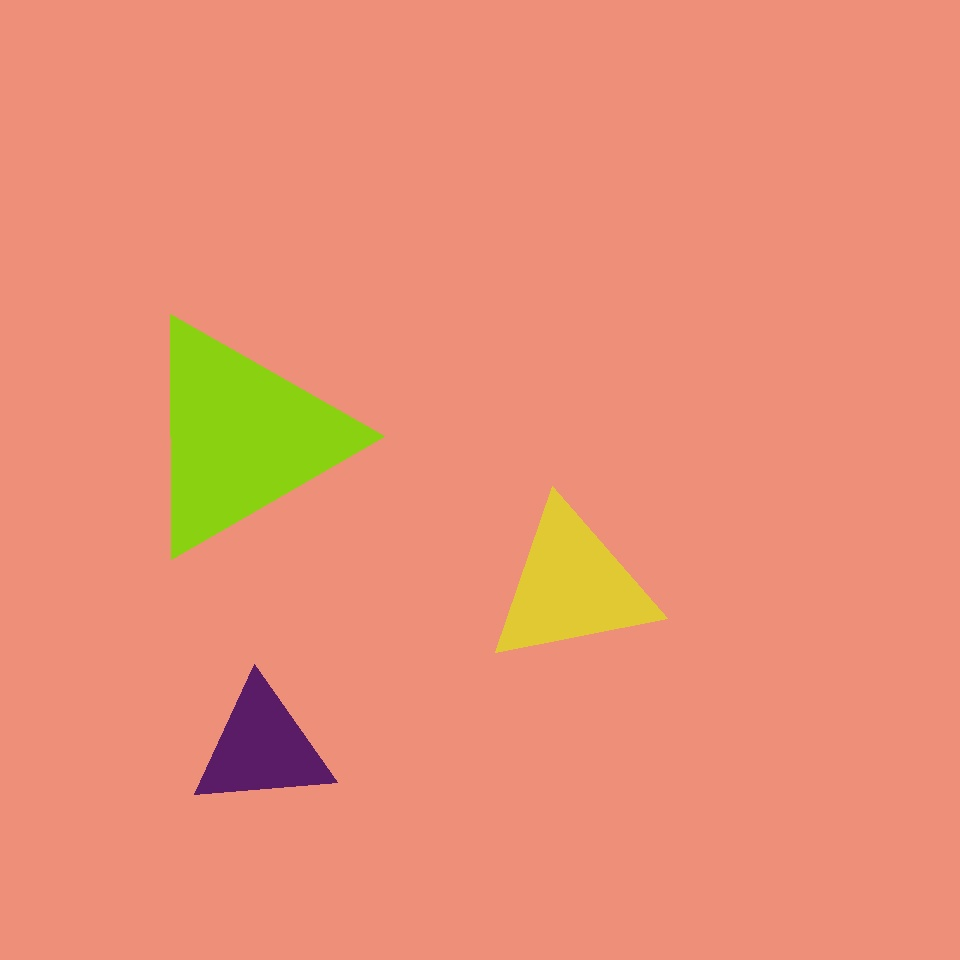circle: (135, 314, 349, 560), (486, 503, 658, 669), (190, 682, 333, 812)
